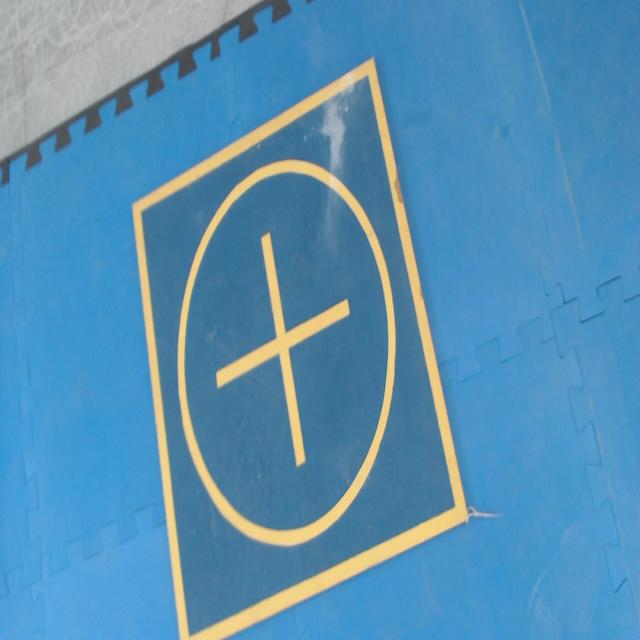base_pouso: (131, 57, 470, 639)
